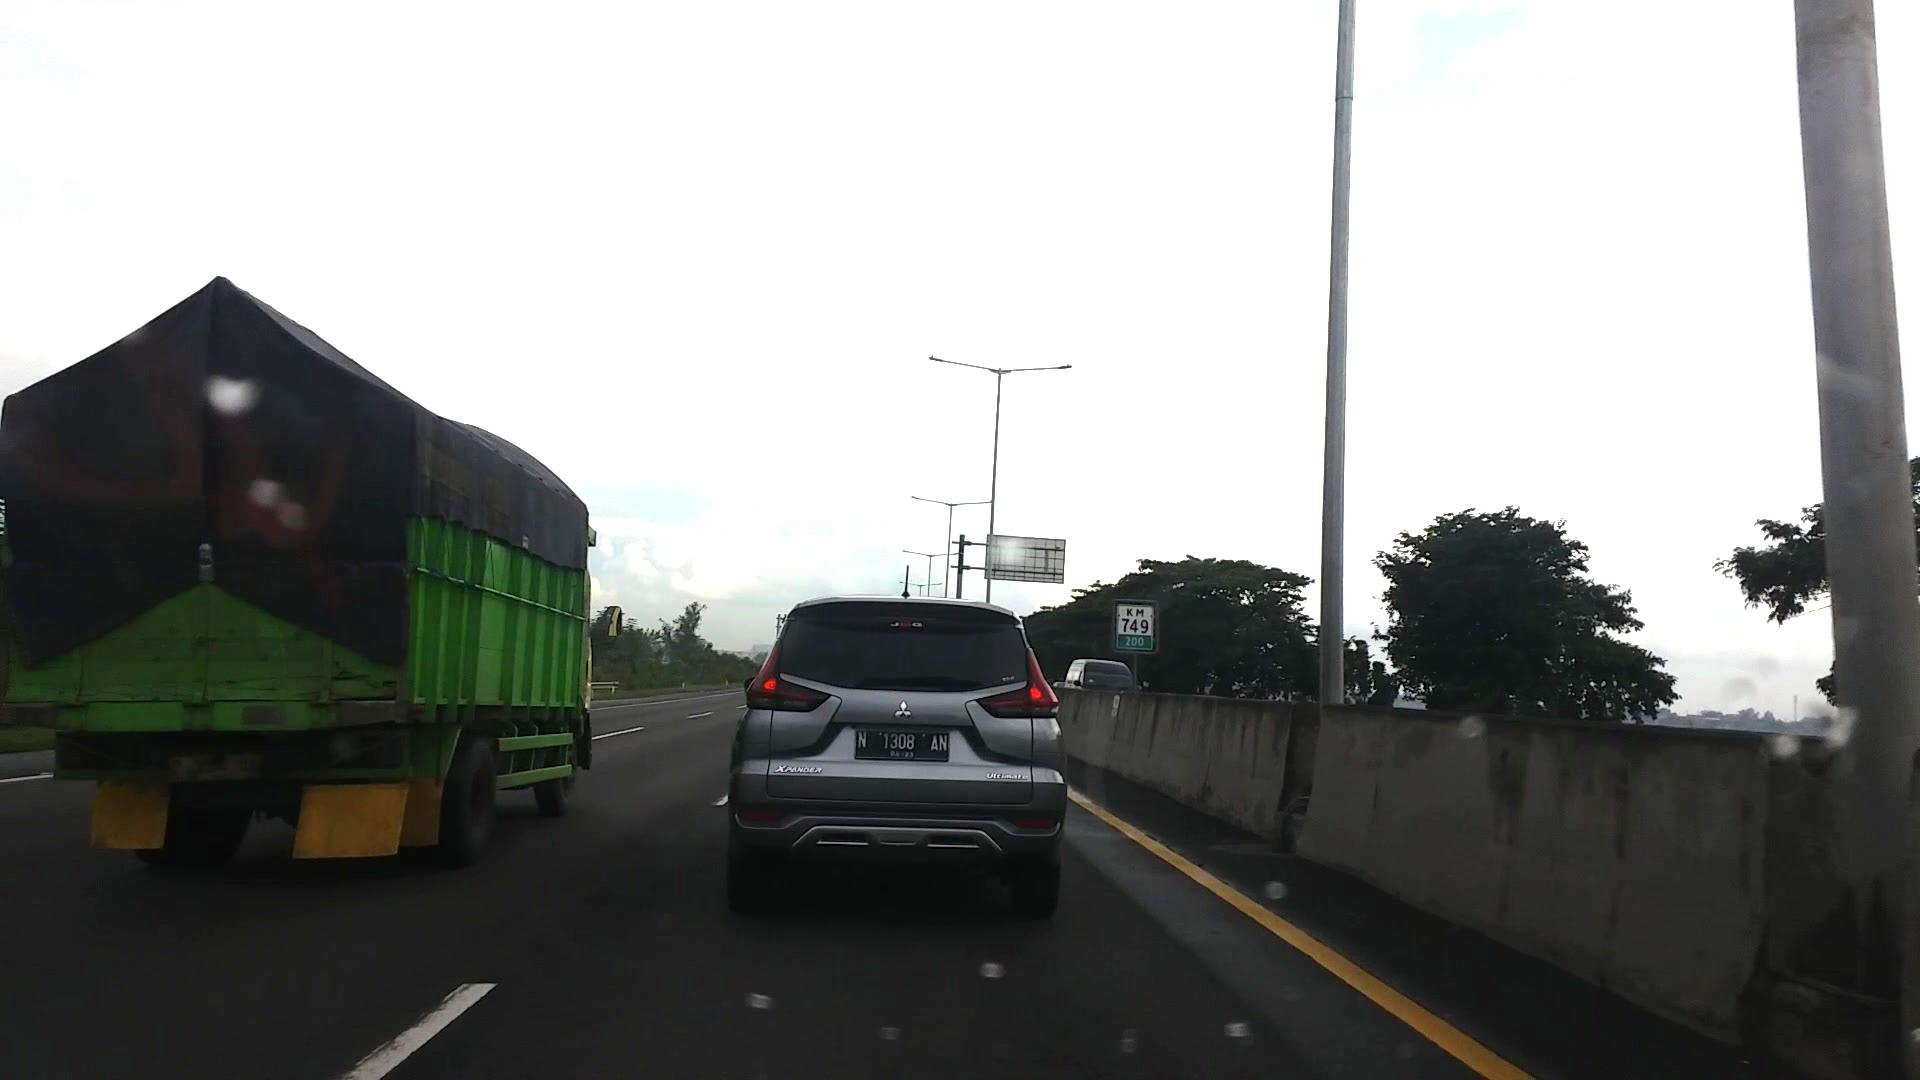plate_positive: (855, 728, 949, 762)
